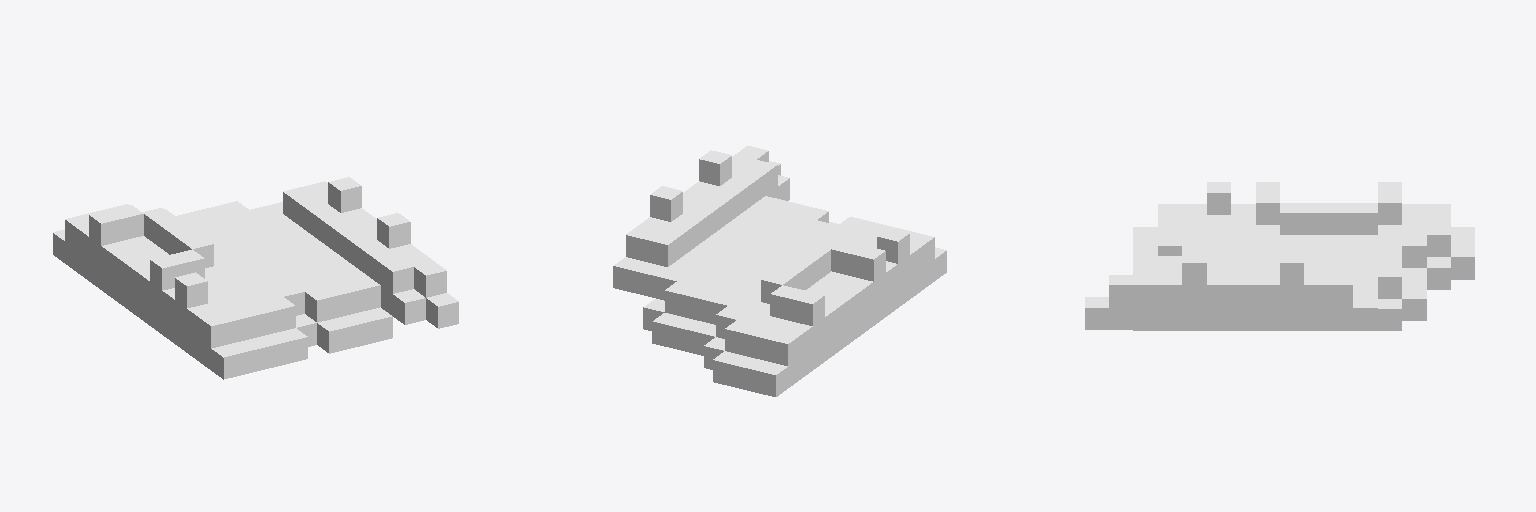
File: Wing-3-RedFighter_Wing2_R.obj
3 renders of one model, left to right at view 1: azimuth 30°, elevation 25°; view 2: azimuth 150°, elevation 25°; view 3: azimuth 270°, elevation 25°, orthographic.
Visible parts, largest first — view 1: RedFighter_Wing2_R; view 2: RedFighter_Wing2_R; view 3: RedFighter_Wing2_R.
Boxes of the visible parts, x1,y1,x2,y2 form: RedFighter_Wing2_R: [53, 177, 458, 379]; RedFighter_Wing2_R: [613, 146, 946, 396]; RedFighter_Wing2_R: [1085, 182, 1474, 330].
Size of the model in its own units: 1 by 0.4 by 1.6.